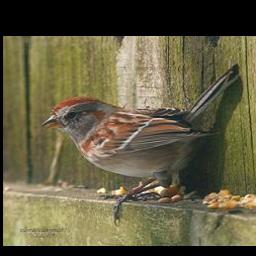Sparrow: (40, 63, 242, 226)
